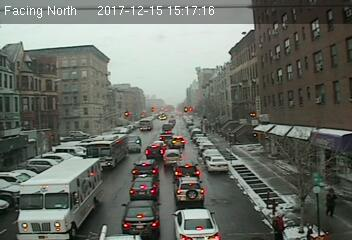bus: (84, 133, 129, 167)
car: (171, 206, 222, 240), (122, 198, 163, 235), (173, 177, 206, 203), (130, 173, 158, 197), (172, 160, 200, 180), (131, 160, 159, 178), (205, 155, 230, 173), (163, 149, 183, 167), (145, 143, 166, 160)
pedestrian: (324, 188, 339, 217)
truck: (17, 158, 106, 238)
